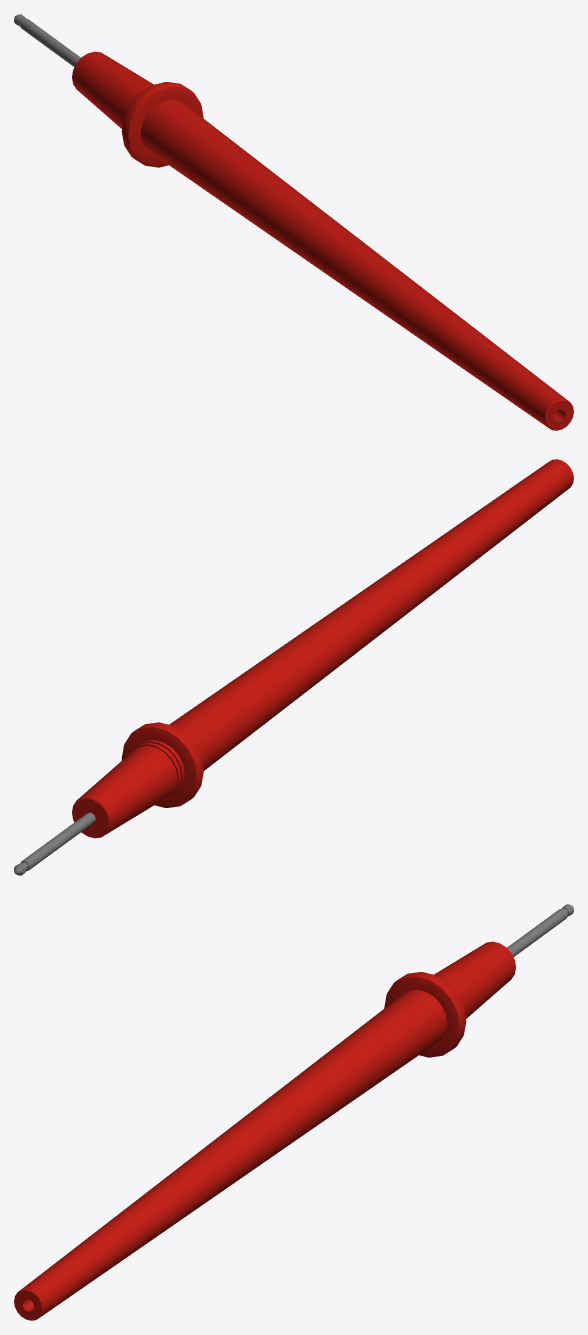
File: Probe_red.fbx
3 views of the same model, one above another, from view 1: azimuth 30°, elevation 25°; view 2: azimuth 150°, elevation 25°; view 3: azimuth 330°, elevation 25° (orthographic).
Parts seen in each view (by area): view 1: Cylinder677, 프로브_빨강; view 2: Cylinder677, 프로브_빨강; view 3: Cylinder677, 프로브_빨강.
Part boxes in pixels (<box>): Cylinder677: <box>72,51,573,430</box>; 프로브_빨강: <box>14,14,80,67</box>; Cylinder677: <box>72,459,573,838</box>; 프로브_빨강: <box>14,812,95,875</box>; Cylinder677: <box>14,941,515,1320</box>; 프로브_빨강: <box>507,904,573,957</box>.
Bounding box in the file's own units: 1.06 × 1.05 × 12.96.
